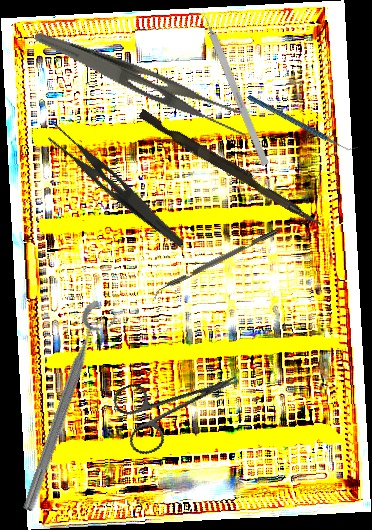Chopper: (246, 65, 359, 180), (150, 229, 281, 300)
Dressing Forceps: (25, 30, 257, 140), (37, 118, 196, 249)
Fixation Ring: (16, 298, 122, 518)
Hook Surgical: (196, 1, 270, 167)
Iris Scissors: (110, 348, 251, 459)
Pusher: (135, 109, 327, 228)
